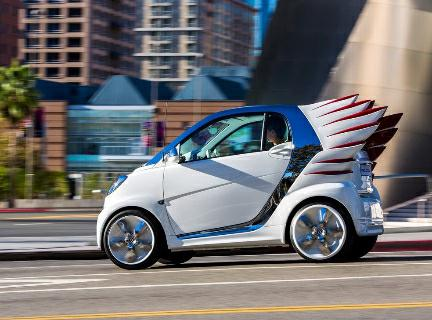smart-forjeremy: (100, 103, 392, 266)
